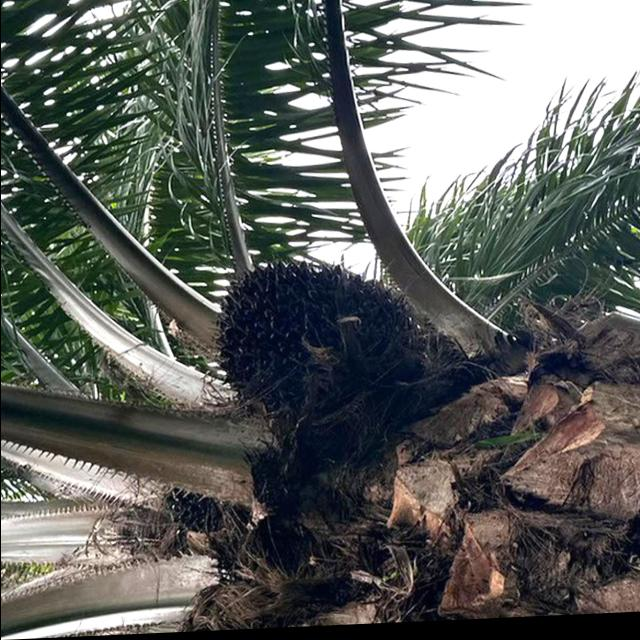ripe: (192, 239, 432, 457)
